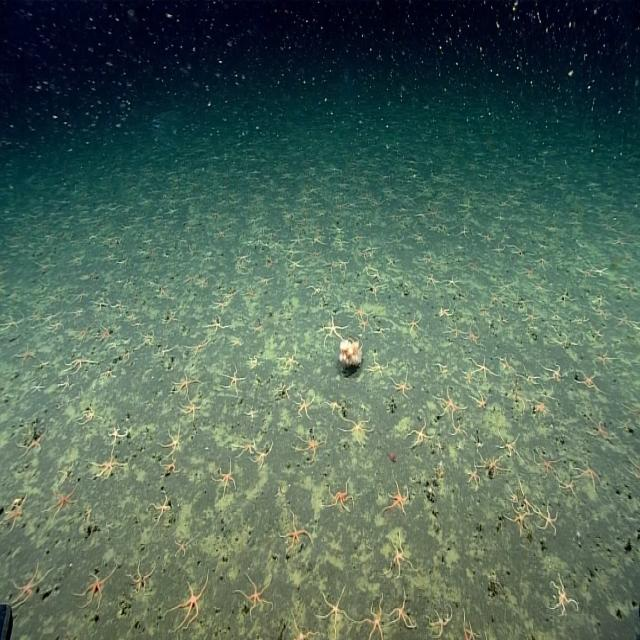brittle-stars: (170, 575, 211, 627), (12, 562, 55, 608), (77, 565, 116, 610), (317, 584, 352, 631), (235, 572, 272, 614), (548, 572, 580, 619), (384, 531, 414, 577), (358, 594, 387, 640), (280, 512, 311, 553), (91, 448, 127, 480), (388, 592, 416, 632), (50, 483, 81, 518), (574, 454, 602, 492), (383, 478, 409, 518), (1, 492, 28, 530), (128, 561, 156, 597), (427, 600, 453, 638), (326, 478, 354, 513), (18, 425, 48, 457), (584, 411, 613, 444), (298, 429, 326, 462), (438, 388, 464, 422), (342, 416, 372, 445), (407, 417, 434, 448), (212, 461, 237, 494), (536, 499, 558, 536), (496, 428, 522, 459), (288, 615, 319, 640), (504, 503, 529, 533), (470, 354, 496, 382), (533, 449, 558, 478), (173, 370, 198, 398), (478, 452, 506, 477), (150, 494, 172, 525), (320, 316, 346, 342), (576, 368, 602, 394), (223, 366, 245, 396), (391, 370, 412, 401), (518, 476, 535, 514), (52, 462, 74, 490), (163, 427, 184, 456), (66, 352, 96, 372), (254, 442, 274, 470), (180, 396, 203, 420), (542, 359, 564, 384), (188, 336, 213, 358), (69, 323, 94, 345), (296, 391, 316, 418), (279, 348, 301, 372), (464, 460, 481, 491), (159, 454, 181, 477), (234, 436, 256, 458), (81, 404, 100, 429), (1, 316, 24, 336), (173, 534, 192, 558), (106, 424, 126, 446), (206, 319, 230, 337), (367, 356, 387, 377), (556, 477, 576, 498), (273, 383, 295, 402), (516, 367, 539, 385), (405, 311, 424, 332), (16, 346, 38, 364), (470, 390, 489, 410), (464, 323, 481, 345), (446, 320, 464, 339), (47, 316, 66, 334), (622, 459, 640, 478), (163, 308, 180, 327), (135, 333, 154, 350), (500, 357, 516, 377), (30, 379, 47, 397), (96, 323, 112, 342), (596, 352, 615, 368), (445, 274, 462, 291), (365, 279, 382, 296), (352, 302, 368, 320), (526, 306, 542, 323), (439, 303, 455, 320), (212, 299, 230, 314), (102, 363, 116, 382), (307, 284, 326, 298), (106, 370, 120, 388), (424, 273, 439, 289), (334, 235, 350, 250), (324, 399, 340, 414), (287, 259, 304, 273), (460, 370, 477, 384), (385, 252, 399, 268), (214, 227, 228, 243), (284, 246, 300, 260), (449, 424, 467, 436), (242, 285, 256, 300), (310, 234, 325, 248), (112, 298, 125, 314), (237, 250, 250, 266), (323, 260, 340, 272), (92, 300, 109, 312), (59, 377, 73, 391), (72, 290, 86, 303), (358, 317, 370, 332), (535, 403, 547, 418), (290, 235, 303, 248), (198, 276, 210, 290), (257, 276, 273, 286), (245, 408, 258, 420), (338, 258, 351, 270), (248, 356, 259, 369), (308, 248, 322, 258), (435, 439, 443, 456), (128, 310, 138, 323), (249, 324, 262, 334), (132, 320, 144, 328), (224, 292, 236, 300)
